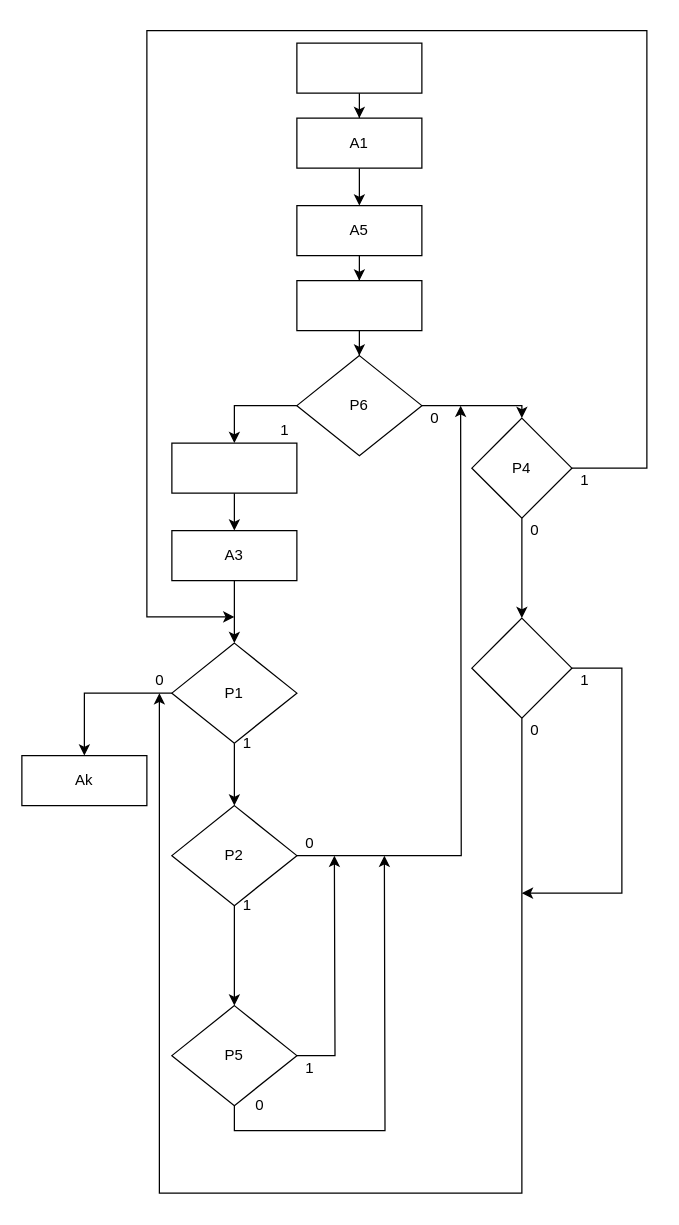
Image size: 679x1225. Some labels were removed from this diagram. The shapes that lost their labels are listed below. From the top down, each one's centre as x and y in pixels, then its label:
(359,67): A0
(359,305): A4
(234,467): A2
(521,667): P3
